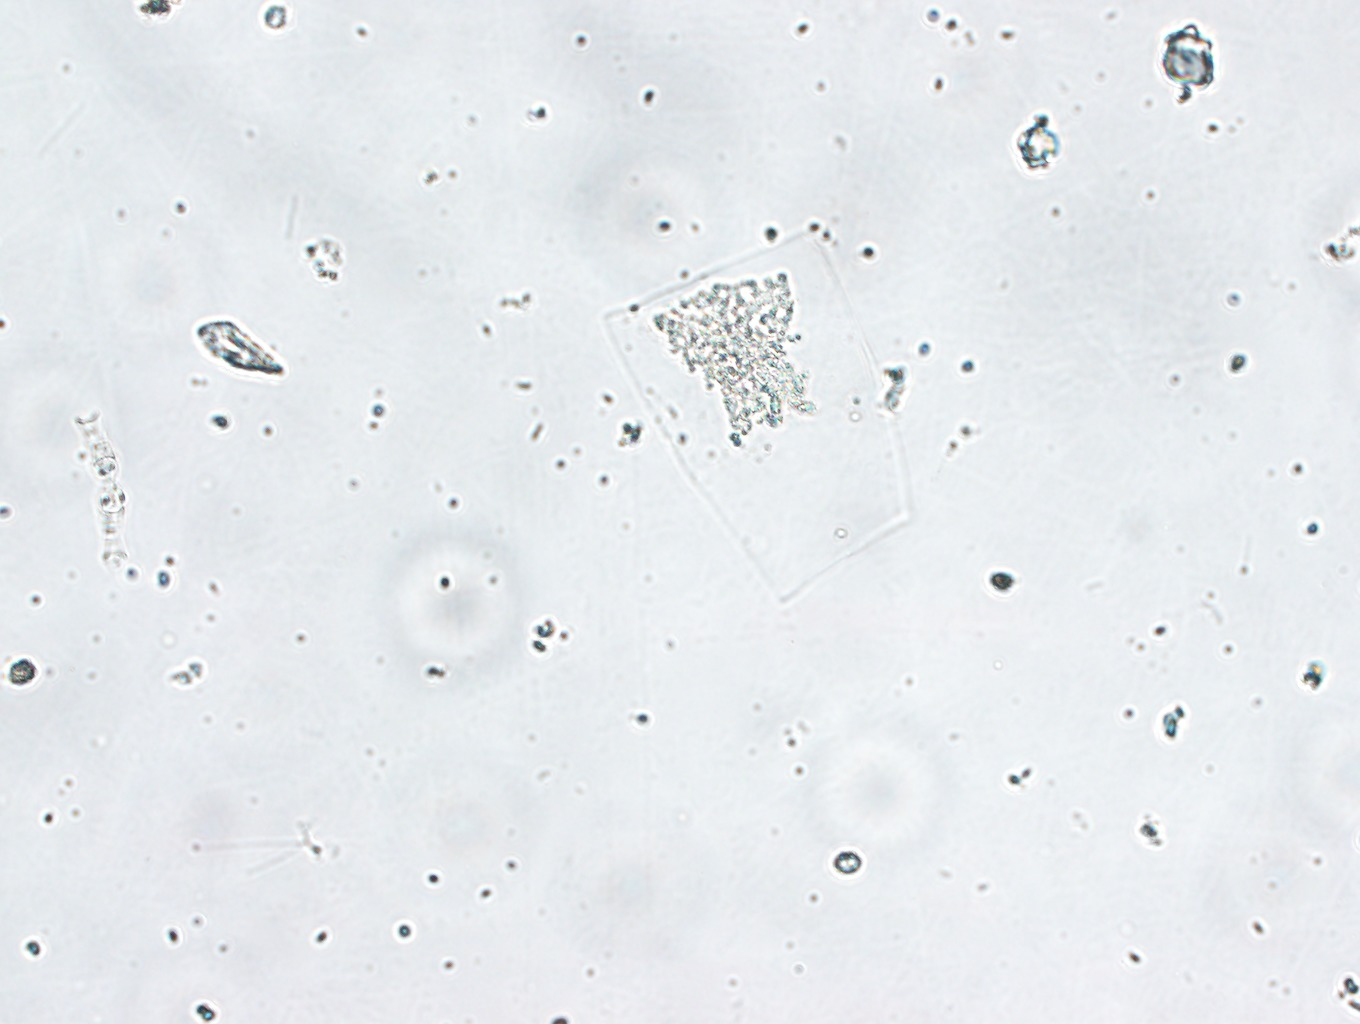helicotheca: (586, 219, 920, 610)
